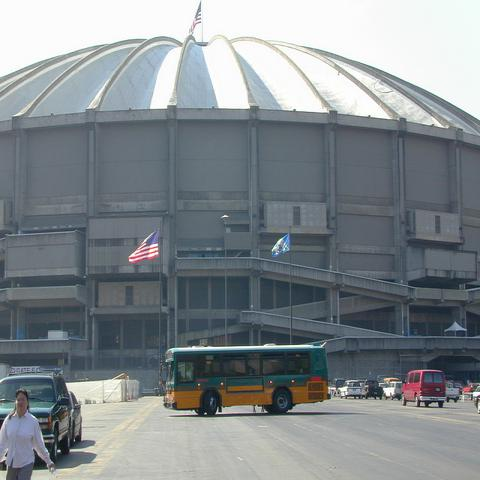bus: (166, 343, 330, 417)
car: (0, 371, 73, 461), (400, 368, 447, 410), (68, 391, 84, 447), (338, 380, 362, 400), (383, 381, 401, 401), (330, 378, 346, 396), (461, 383, 479, 395), (378, 382, 388, 398), (474, 395, 479, 415), (473, 386, 479, 400)
truck: (2, 367, 74, 455), (361, 377, 385, 399), (446, 382, 460, 402)
